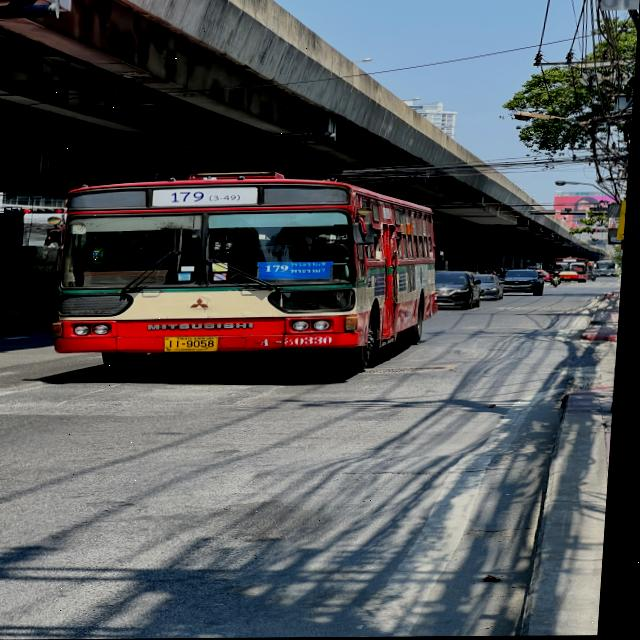BMTA-bus: (23, 167, 456, 386), (548, 253, 598, 287)
Bus-Line-Number: (148, 187, 263, 206)
Destination-Sign-Normal: (258, 262, 341, 280)
